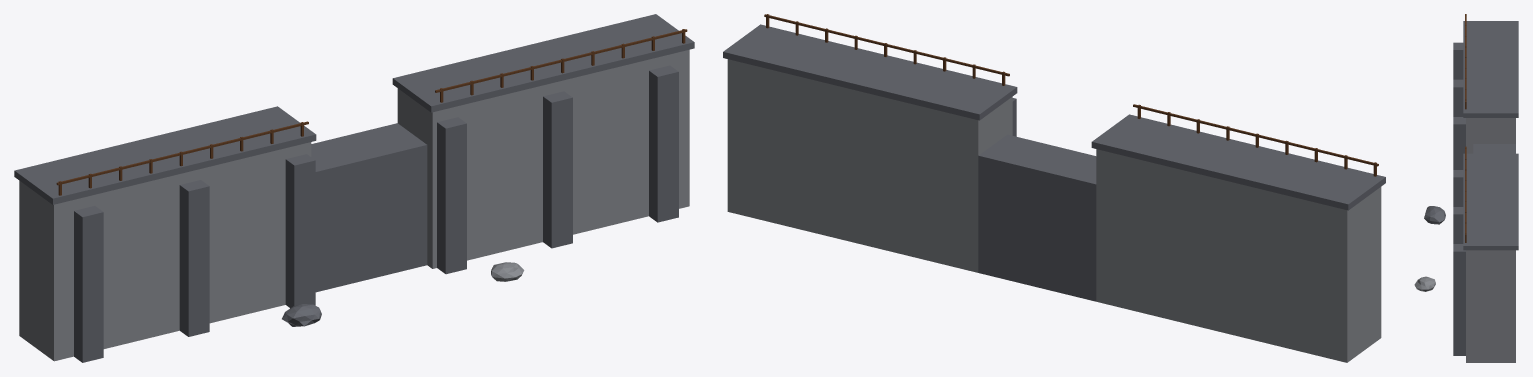
The model's file is dam.glb.
The picture shows the model from 3 angles, left to right: view 1: azimuth 30°, elevation 25°; view 2: azimuth 150°, elevation 25°; view 3: azimuth 270°, elevation 25°; orthographic projection. The views are drawn at different scales.
Visible parts, largest first — view 1: DamMesh; view 2: DamMesh; view 3: DamMesh.
Part boxes in pixels (left/top/right/bottom): DamMesh: left=14, top=14, right=694, bottom=362; DamMesh: left=723, top=14, right=1385, bottom=362; DamMesh: left=1414, top=14, right=1518, bottom=362.
Size of the model in its own units: 42.4 by 11.45 by 8.31.
